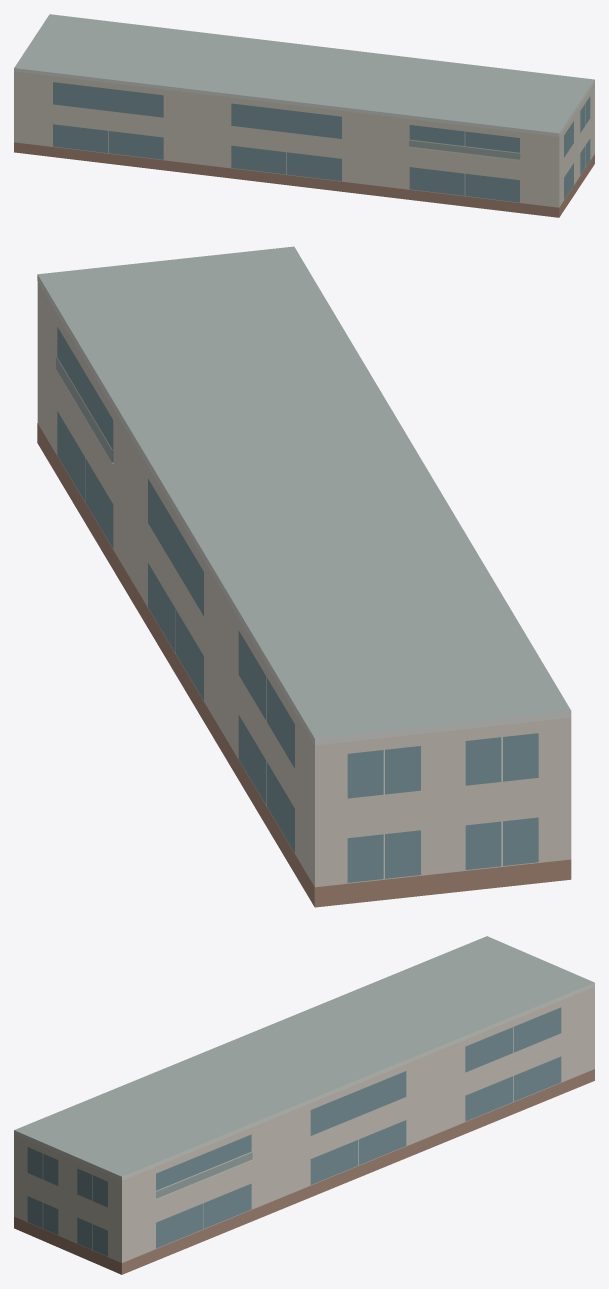
The model's file is survey-upis-32992578.glb.
3 views of the same model, one above another, from view 1: azimuth 30°, elevation 25°; view 2: azimuth 150°, elevation 25°; view 3: azimuth 270°, elevation 25° (orthographic). The views are drawn at different scales.
Parts seen in each view (by area): view 1: survey-upis-32992578.tmp; view 2: survey-upis-32992578.tmp; view 3: survey-upis-32992578.tmp.
Boxes of the visible parts, x1,y1,x2,y2 form: survey-upis-32992578.tmp: [14, 14, 594, 217]; survey-upis-32992578.tmp: [37, 246, 571, 907]; survey-upis-32992578.tmp: [14, 936, 594, 1274].
Bounding box in the file's own units: 32.08 × 6.1 × 32.72.
